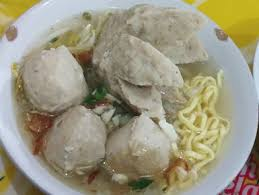bakso: (33, 8, 199, 177)
